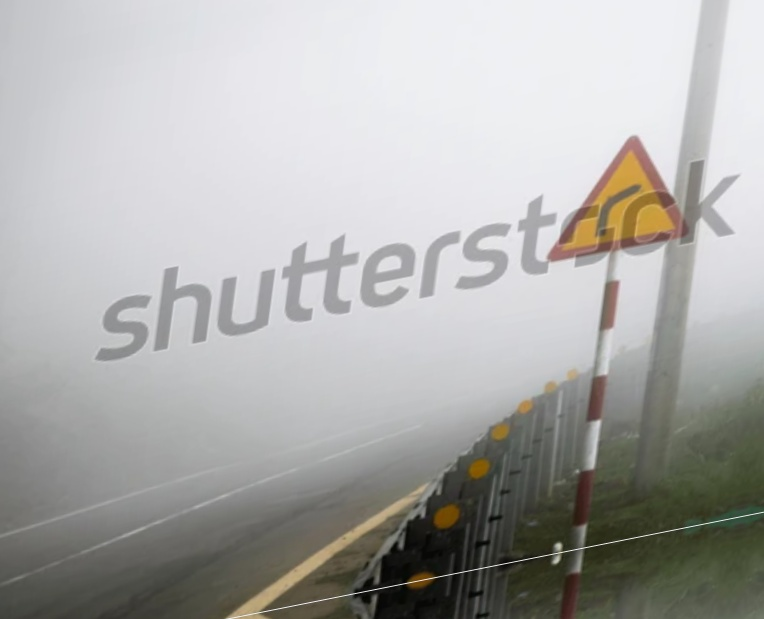Turn right: (539, 130, 707, 261)
